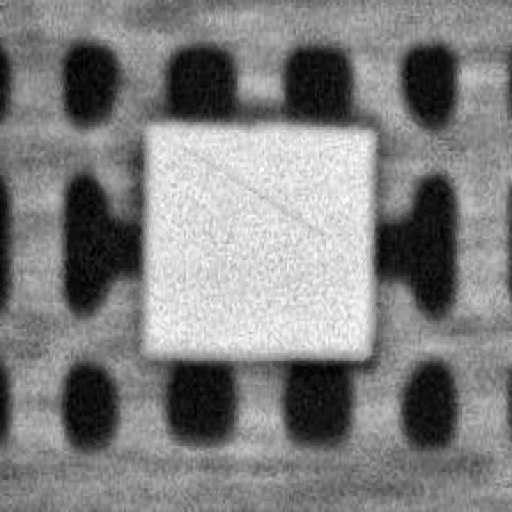DIE_CRACK: (268, 96, 480, 154)
